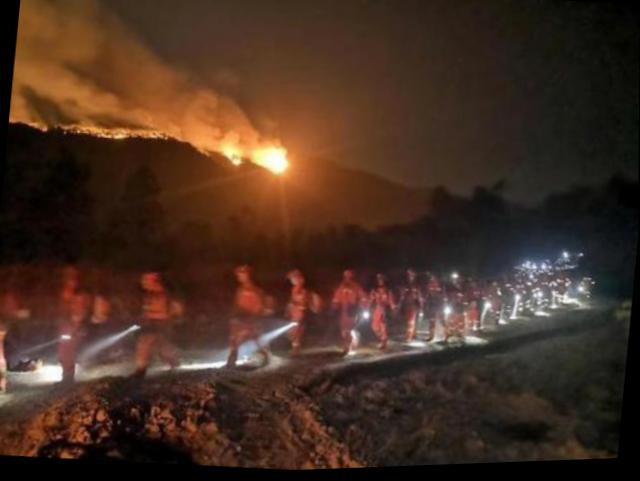fire: (218, 131, 293, 181)
